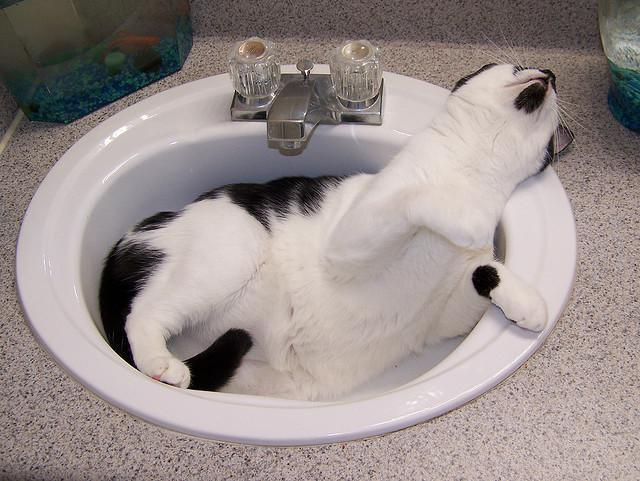Lavaplatos: (26, 40, 601, 449)
